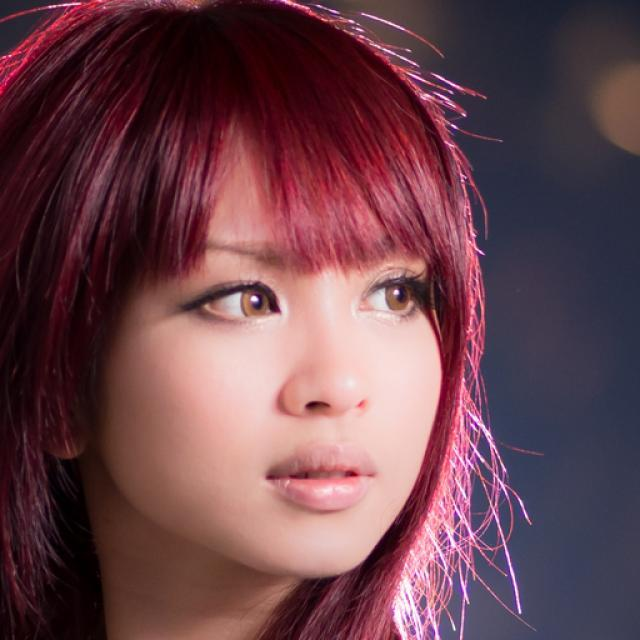neutral: (96, 122, 445, 576)
